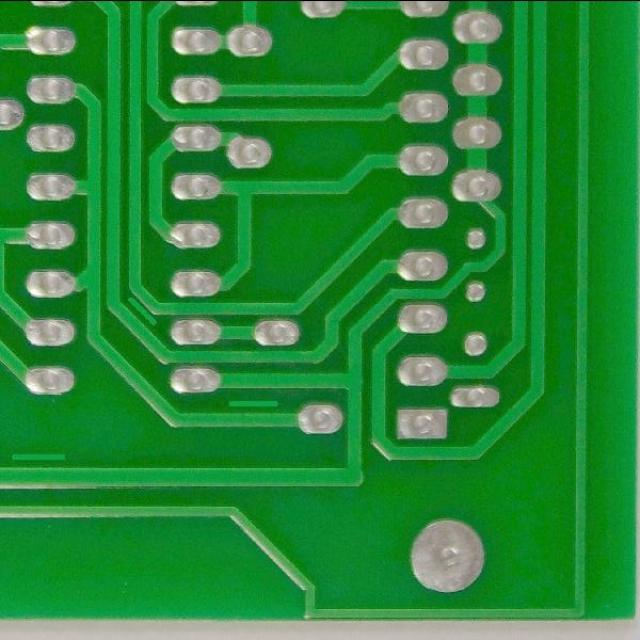Spurious_Cooper: (123, 290, 162, 331), (8, 447, 72, 465), (223, 394, 283, 410)
